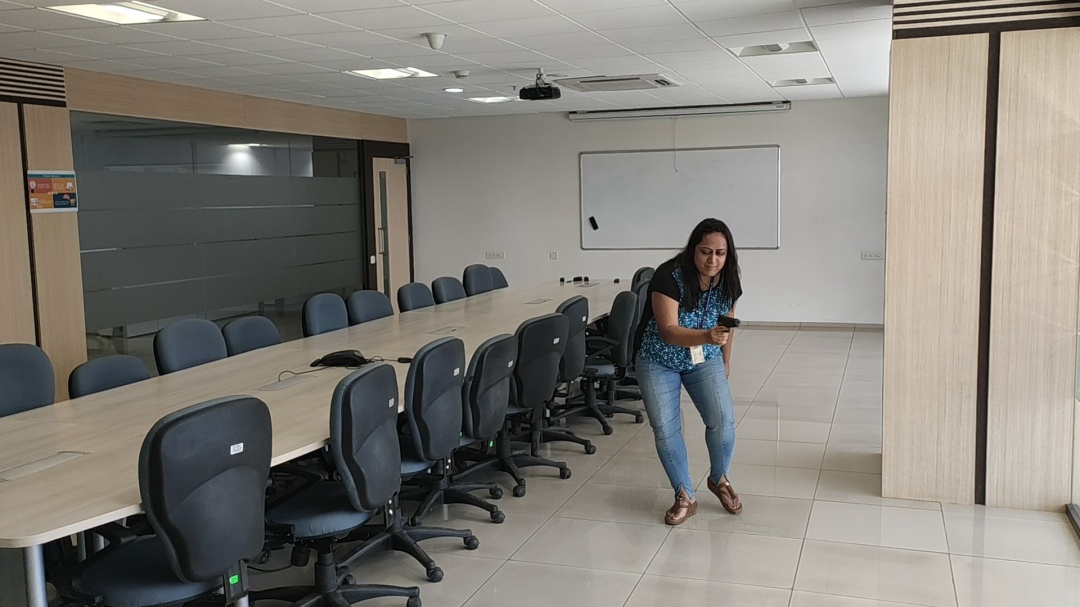gun: (716, 314, 742, 332)
